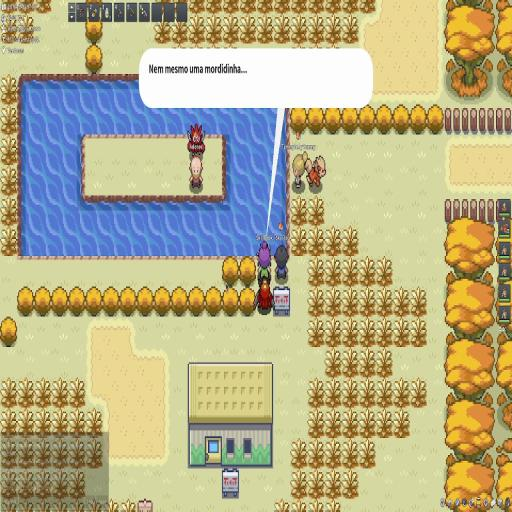NMUM: (146, 60, 250, 76)
